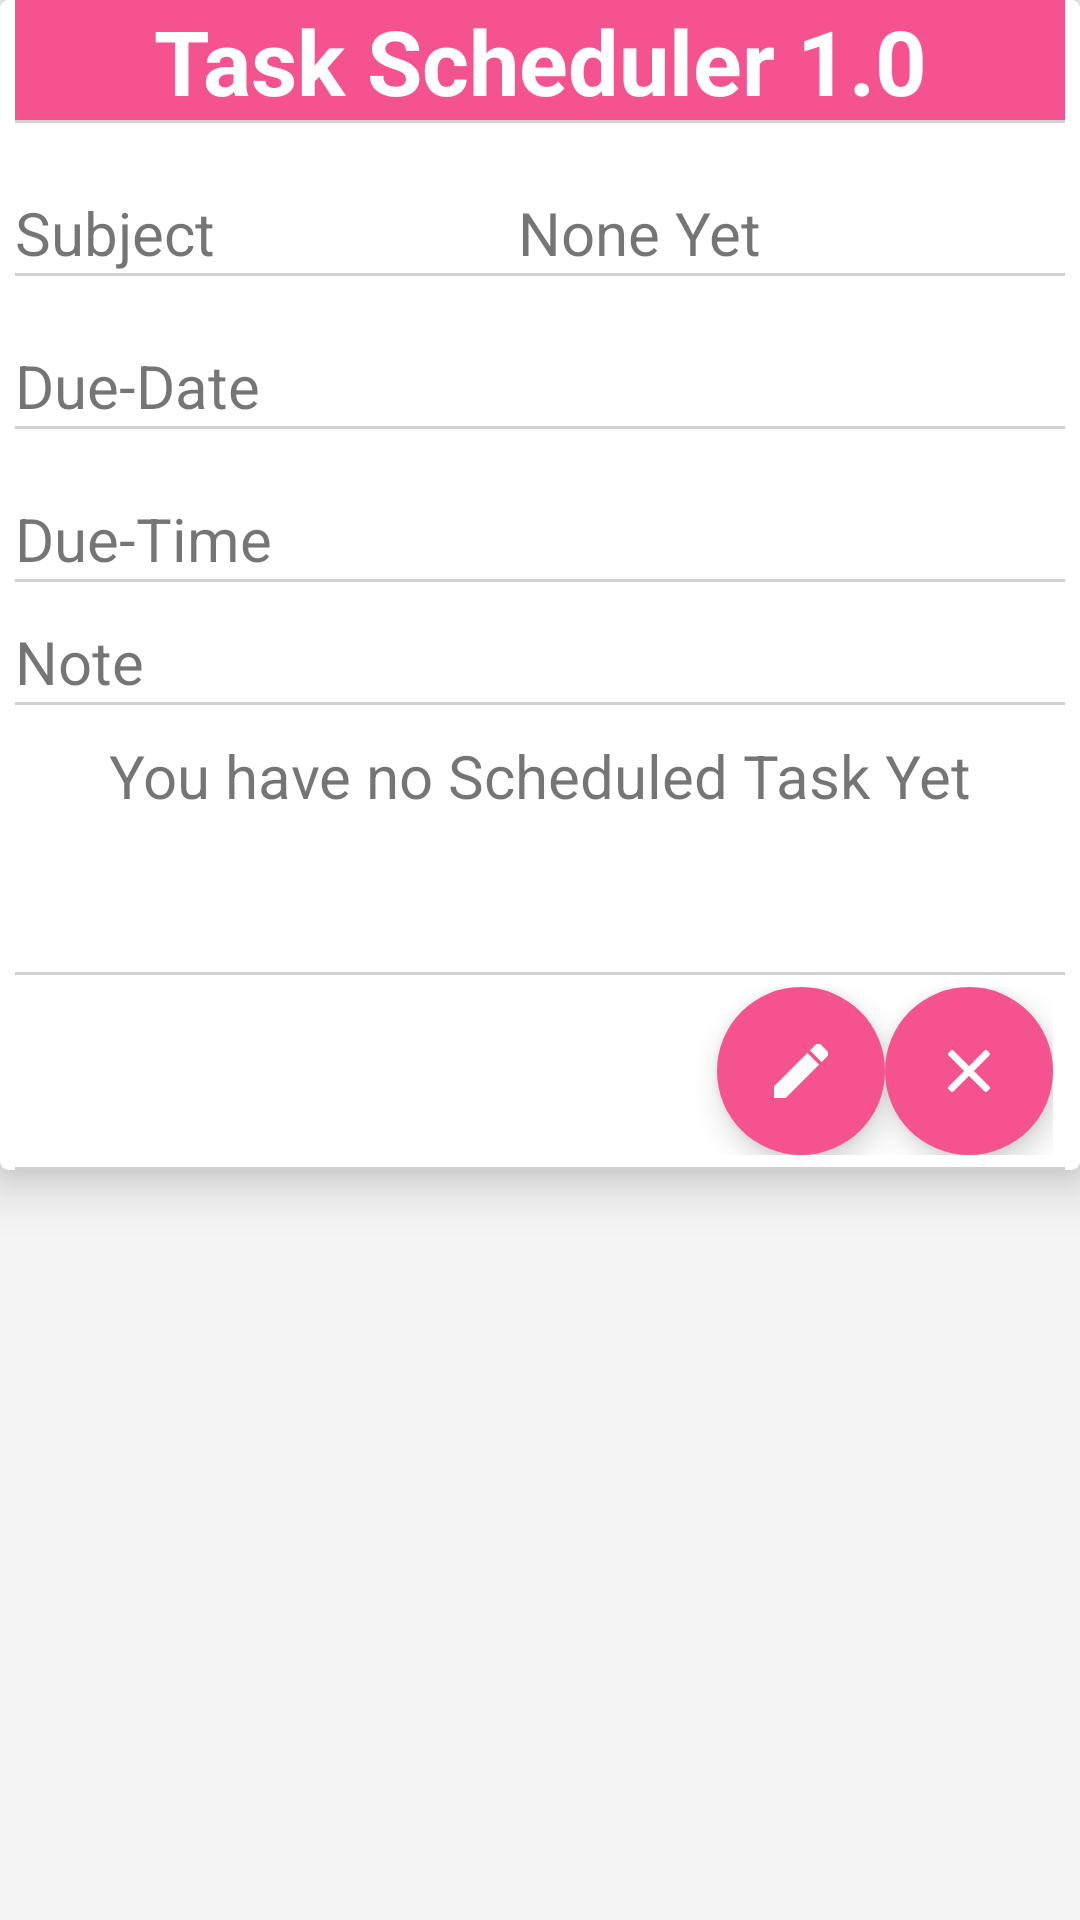

Where to tap for icons on this 1080x1920 app screen, as (x,y):
clear: (969,1071)
mode edit: (801,1071)
